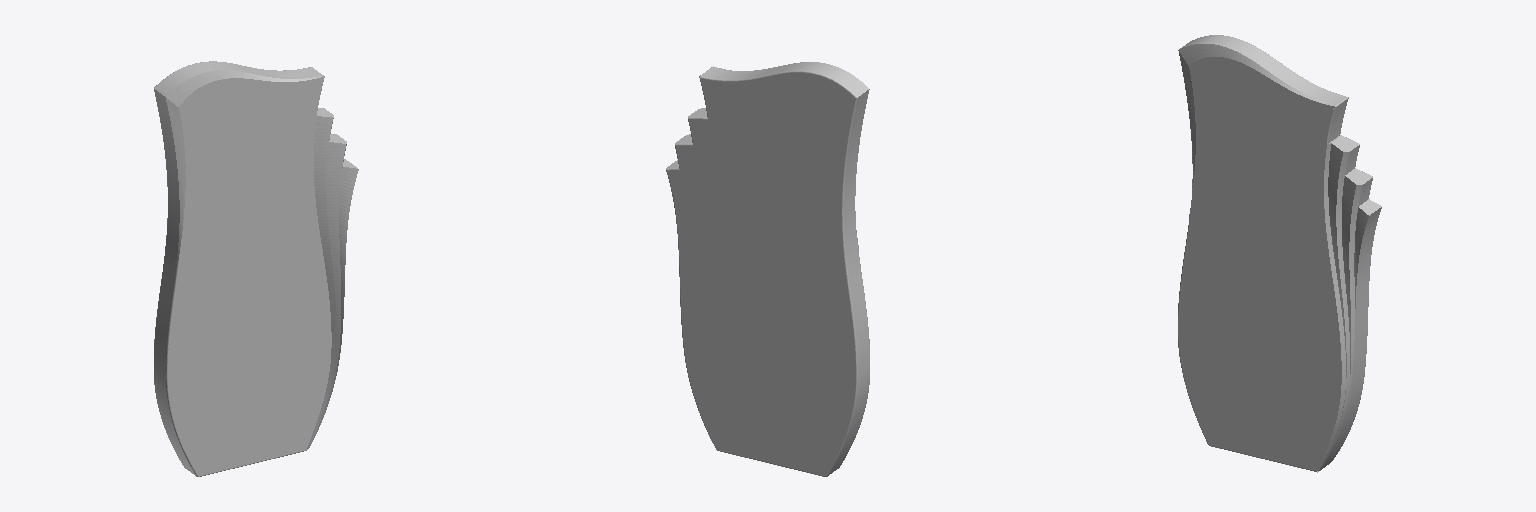
Rendered from stella o-43 80x40x5.obj.
3 views of the same model, side by side, from view 1: azimuth 30°, elevation 25°; view 2: azimuth 150°, elevation 25°; view 3: azimuth 330°, elevation 25° (orthographic).
Parts seen in each view (by area): view 1: stella; view 2: stella; view 3: stella.
Part boxes in pixels (left/top/right/bottom): stella: left=154, top=61, right=358, bottom=476; stella: left=666, top=62, right=869, bottom=476; stella: left=1178, top=35, right=1381, bottom=472.
Bounding box in the file's own units: 40 × 80 × 5.